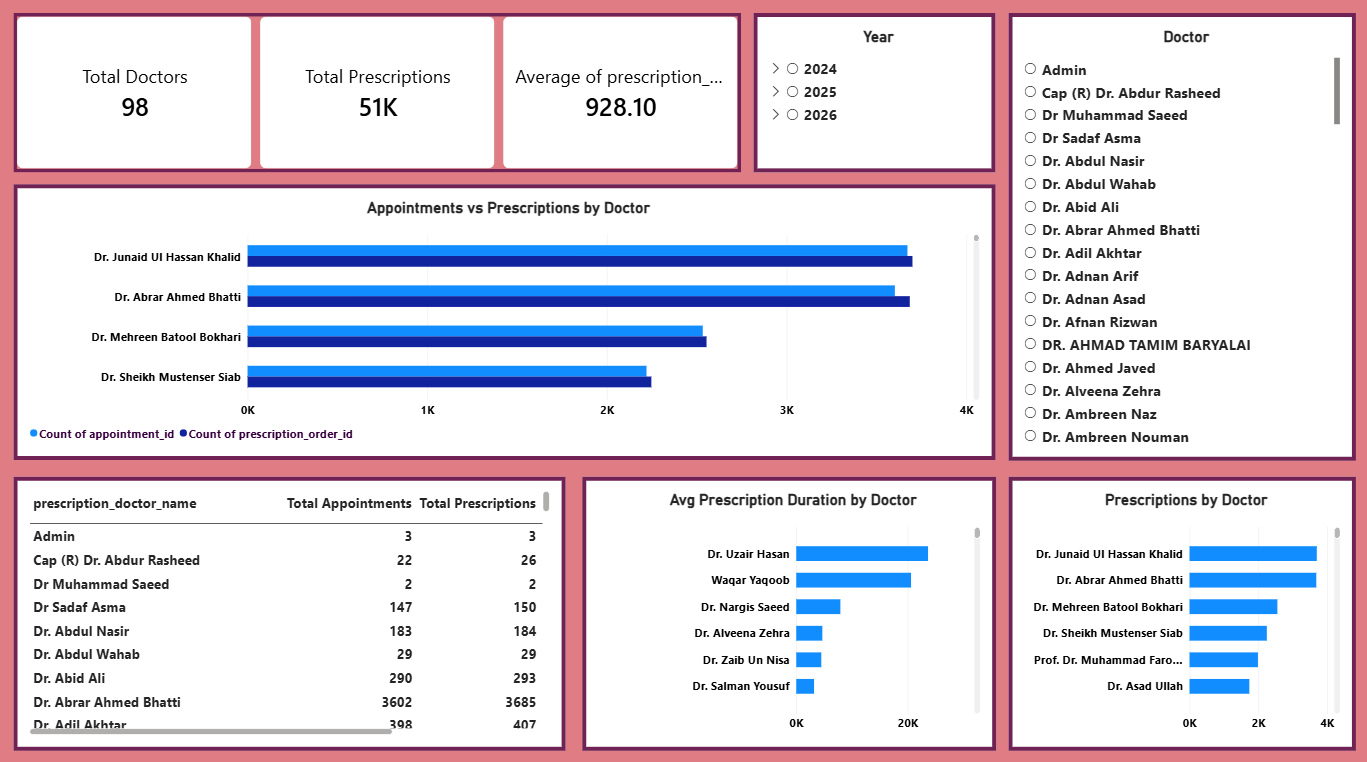

What the dashboard file says about the page in this screenshot:
{"tool":"powerbi","page":{"name":"Page 3","canvas":[1920,1080],"ordinal":2},"visuals":[{"type":"listSlicer","title":"Doctor","fields":{"Values":["cleaned_HospitalOPD-noname.prescription_doctor_name"]},"box":[1412.5,27.5,485,625],"z":0},{"type":"listSlicer","fields":{"Values":["cleaned_HospitalOPD-noname.appointment_start_datetime.Variation.Date Hierarchy.Year","cleaned_HospitalOPD-noname.appointment_start_datetime.Variation.Date Hierarchy.Month"]},"box":[1057.5,27.5,337.5,222.5],"z":1},{"type":"cardVisual","fields":{"Data":["cleaned_HospitalOPD-noname.Total Doctors","cleaned_HospitalOPD-noname.Total Prescriptions","Avg(cleaned_HospitalOPD-noname.prescription_duration)"]},"box":[25,27.5,1015,222.5],"z":2},{"type":"clusteredBarChart","title":" Prescriptions by Doctor","fields":{"Category":["cleaned_HospitalOPD-noname.prescription_doctor_name"],"Y":["cleaned_HospitalOPD-noname.Total Prescriptions"]},"box":[1412.5,675,485,382.5],"z":3},{"type":"clusteredBarChart","title":"Avg Prescription Duration by Doctor","fields":{"Category":["cleaned_HospitalOPD-noname.prescription_doctor_name"],"Y":["Avg(cleaned_HospitalOPD-noname.prescription_duration)"]},"box":[817.5,675,577.5,382.5],"z":4},{"type":"clusteredBarChart","title":" Appointments vs Prescriptions by Doctor","fields":{"Category":["cleaned_HospitalOPD-noname.prescription_doctor_name"],"Y":["Count(cleaned_HospitalOPD-noname.appointment_id)","Count(cleaned_HospitalOPD-noname.prescription_order_id)"]},"box":[25,267.5,1370,385],"z":5},{"type":"tableEx","fields":{"Values":["cleaned_HospitalOPD-noname.prescription_doctor_name","cleaned_HospitalOPD-noname.Total Appointments","cleaned_HospitalOPD-noname.Total Prescriptions","Avg(cleaned_HospitalOPD-noname.prescription_duration)"]},"box":[25,675,770,382.5],"z":6}]}

Visuals, with their boxes in screenshot pixels (x1, y1, x2, y2), scaled from the page's 1920x1080 canvas onto the 1367x762 screenshot:
"Doctor" listSlicer: 1006:19:1351:460
listSlicer - cleaned_HospitalOPD-noname.appointment_start_datetime.Variation.Date Hierarchy.Year x cleaned_HospitalOPD-noname.appointment_start_datetime.Variation.Date Hierarchy.Month: 753:19:993:176
cardVisual - cleaned_HospitalOPD-noname.Total Doctors x cleaned_HospitalOPD-noname.Total Prescriptions: 18:19:740:176
" Prescriptions by Doctor" clusteredBarChart: 1006:476:1351:746
"Avg Prescription Duration by Doctor" clusteredBarChart: 582:476:993:746
" Appointments vs Prescriptions by Doctor" clusteredBarChart: 18:189:993:460
tableEx - cleaned_HospitalOPD-noname.prescription_doctor_name x cleaned_HospitalOPD-noname.Total Appointments: 18:476:566:746
